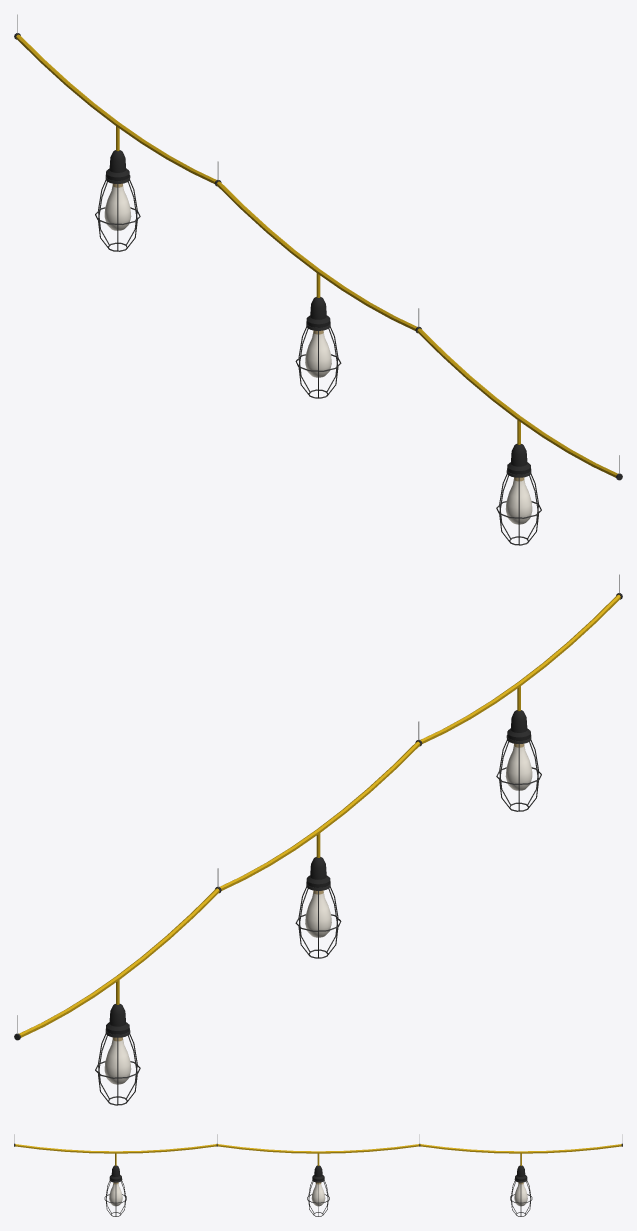
The model's file is Kit_TempLightString.fbx.
3 views of the same model, one above another, from view 1: azimuth 30°, elevation 25°; view 2: azimuth 150°, elevation 25°; view 3: azimuth 270°, elevation 25° (orthographic). The views are drawn at different scales.
Parts seen in each view (by area): view 1: Kit_TempLightString_LOD0; view 2: Kit_TempLightString_LOD0; view 3: Kit_TempLightString_LOD0.
Boxes of the visible parts, <box> form: Kit_TempLightString_LOD0: <box>14,14,622,545</box>; Kit_TempLightString_LOD0: <box>14,574,622,1105</box>; Kit_TempLightString_LOD0: <box>14,1134,622,1216</box>.
Size of what is drawn, in the model's own units: 0.1153 by 0.439 by 3.01.
